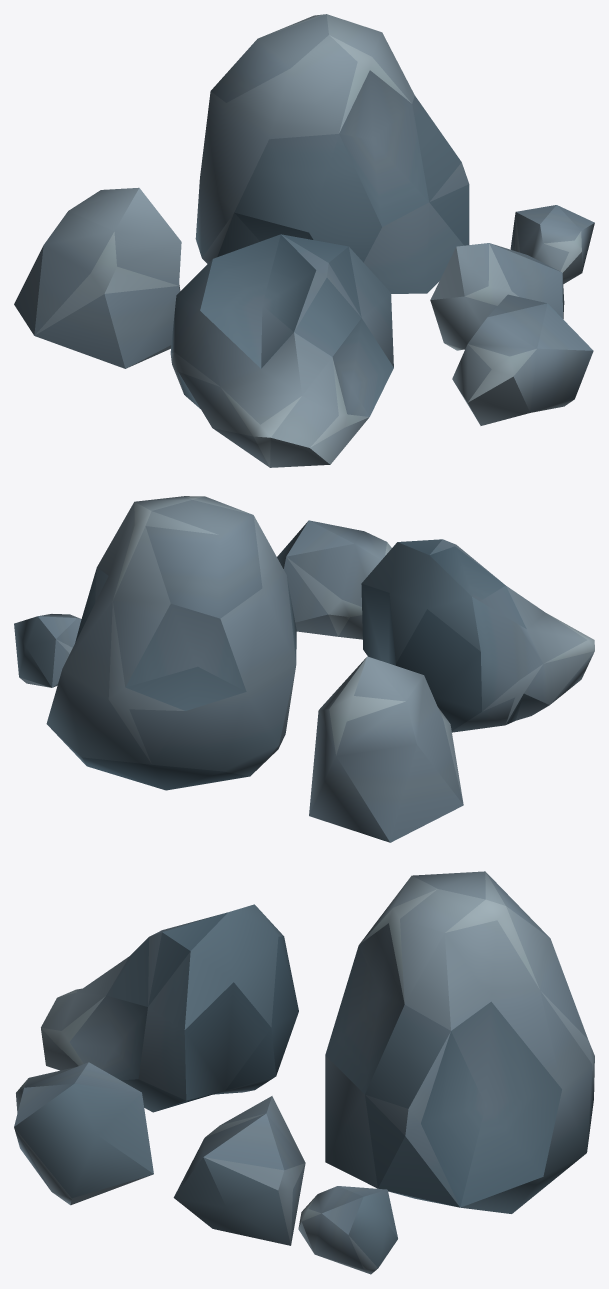
File: Iron.glb
The picture shows the model from 3 angles, top to bottom: view 1: azimuth 30°, elevation 25°; view 2: azimuth 150°, elevation 25°; view 3: azimuth 270°, elevation 25°; orthographic projection. The views are drawn at different scales.
Visible parts, largest first — view 1: Iron_Nuggets; view 2: Iron_Nuggets; view 3: Iron_Nuggets.
Part boxes in pixels (x1,y1,x2,y2): Iron_Nuggets: [14, 14, 594, 467]; Iron_Nuggets: [14, 496, 594, 842]; Iron_Nuggets: [14, 871, 594, 1274].
Bounding box in the file's own units: 0.9288 × 0.4749 × 0.8501.
1 material, 1 textured.
